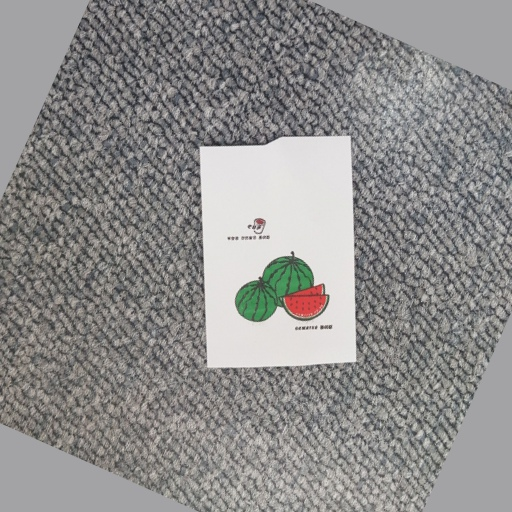Paper_2: (183, 126, 383, 394)
